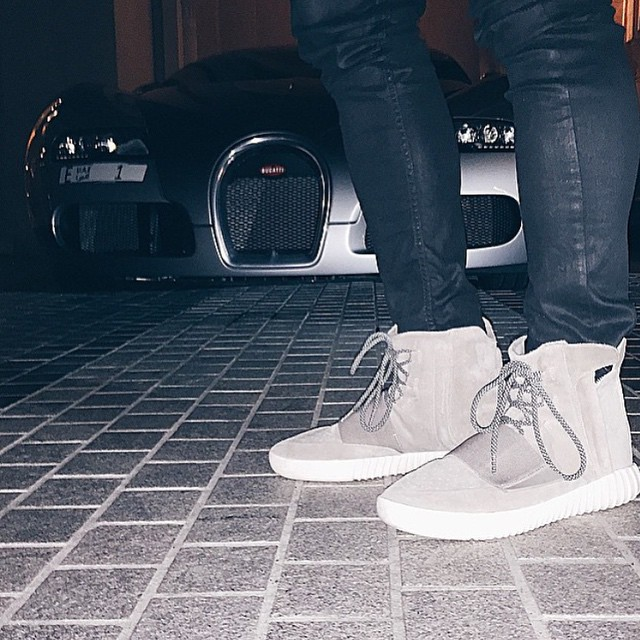sneaker: (358, 317, 640, 558), (257, 318, 518, 492)
